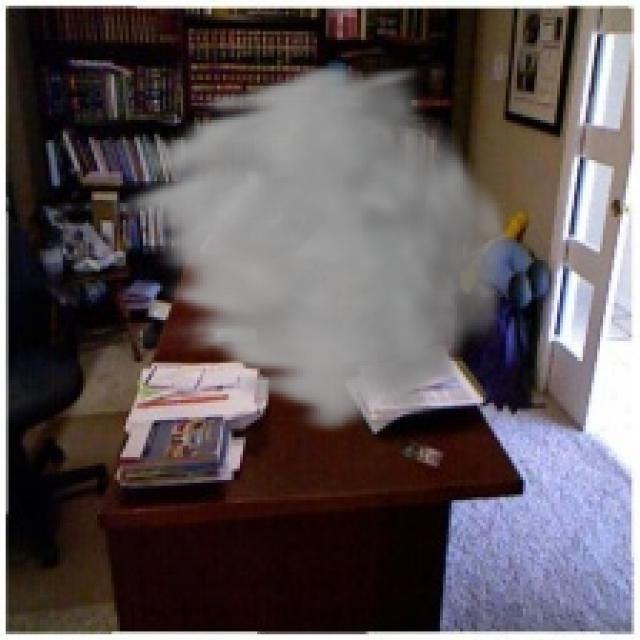smoke: (109, 60, 517, 437)
